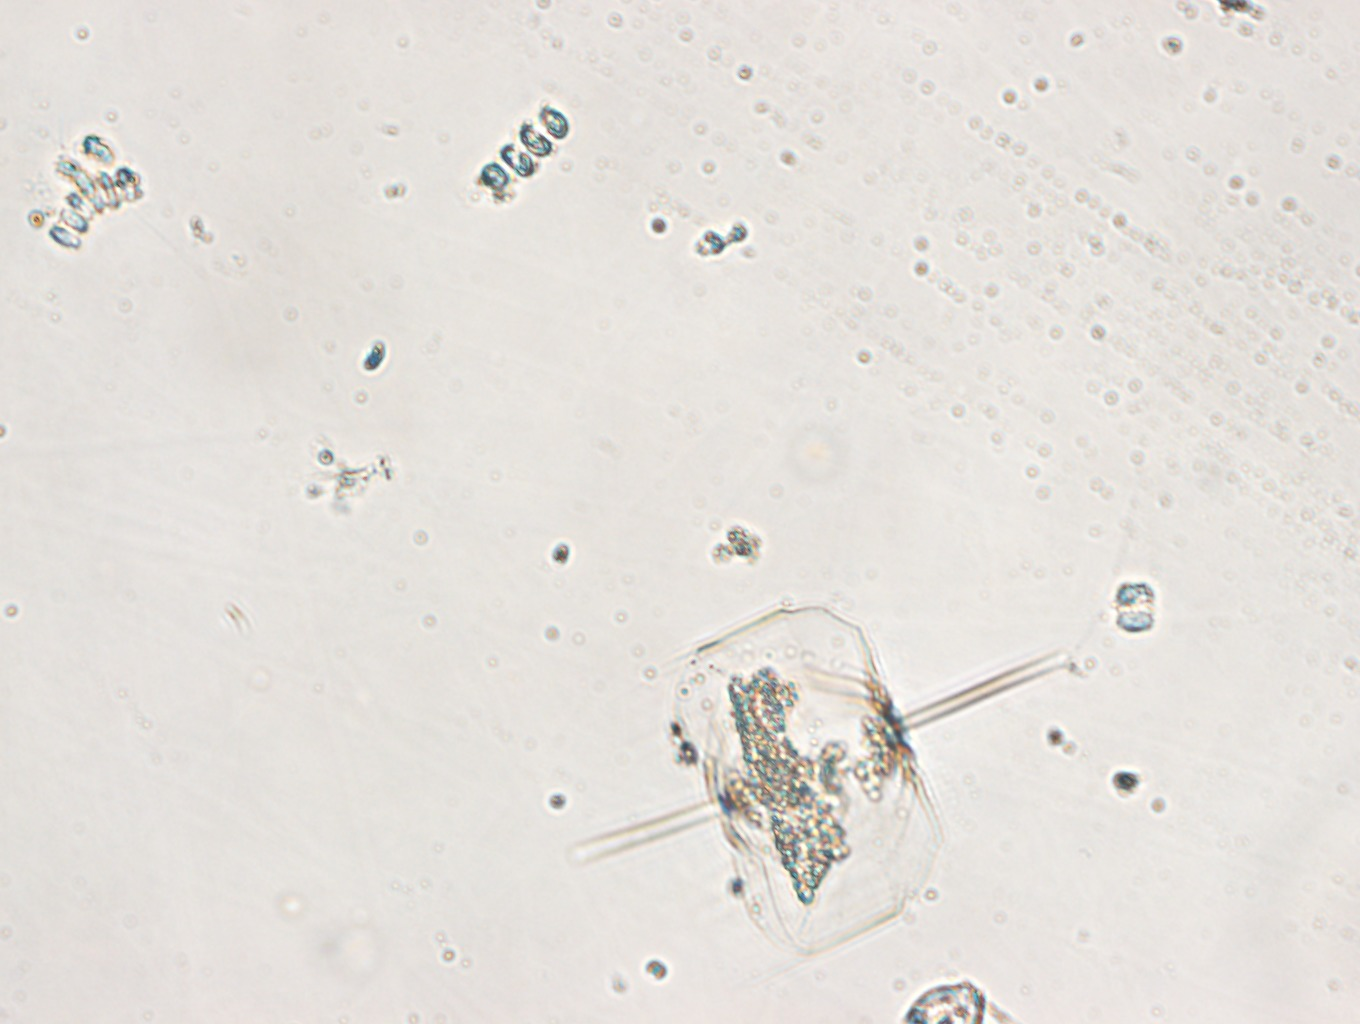ditylum: (566, 600, 1079, 959)
skeletonema: (474, 100, 572, 205), (47, 160, 149, 258)
